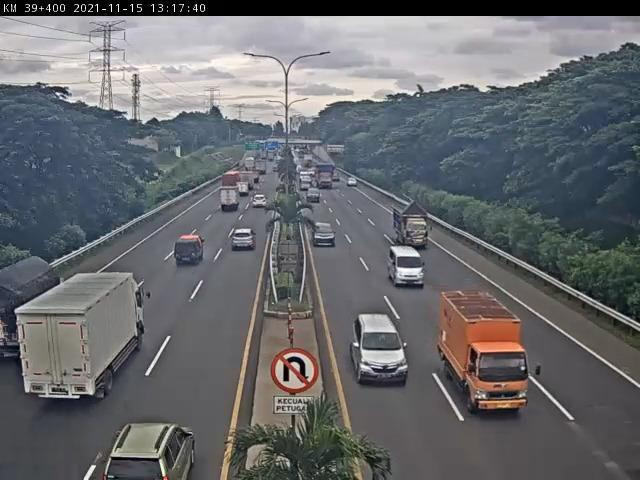car: (351, 313, 411, 385), (387, 244, 428, 287), (174, 233, 206, 270), (313, 220, 339, 251), (230, 227, 256, 256), (306, 188, 325, 206), (253, 195, 270, 212)
truck: (24, 272, 147, 403), (435, 288, 535, 412), (1, 256, 61, 367), (394, 203, 432, 249), (217, 186, 243, 214)
